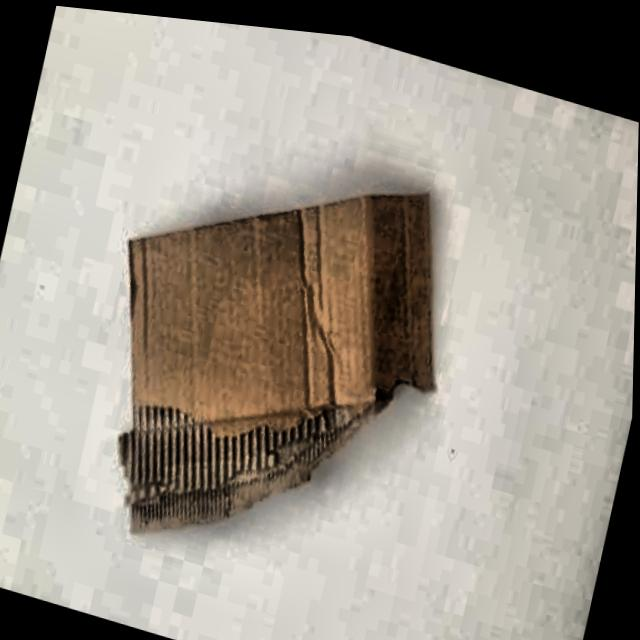Cardbox: (43, 62, 509, 640)
